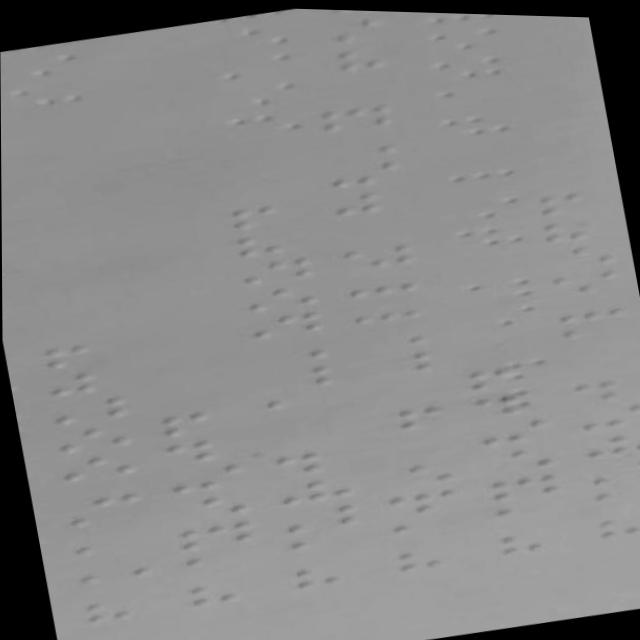braiile: (233, 331, 330, 371), (235, 303, 328, 344), (244, 358, 334, 397), (531, 234, 617, 274), (47, 420, 133, 460), (546, 285, 629, 326), (306, 10, 391, 50), (234, 249, 319, 289), (58, 475, 146, 513), (482, 464, 565, 504), (380, 480, 463, 520), (361, 397, 444, 437), (336, 261, 419, 301), (313, 96, 396, 136), (174, 513, 257, 553), (353, 343, 437, 382), (238, 278, 321, 317), (56, 446, 139, 485), (168, 486, 253, 524), (317, 126, 398, 165), (167, 459, 248, 498), (270, 470, 353, 508), (474, 439, 557, 476), (471, 411, 551, 449), (349, 317, 431, 354), (323, 153, 402, 191), (310, 41, 389, 79), (345, 290, 426, 327), (372, 455, 454, 491), (572, 421, 640, 461), (571, 395, 640, 431)
